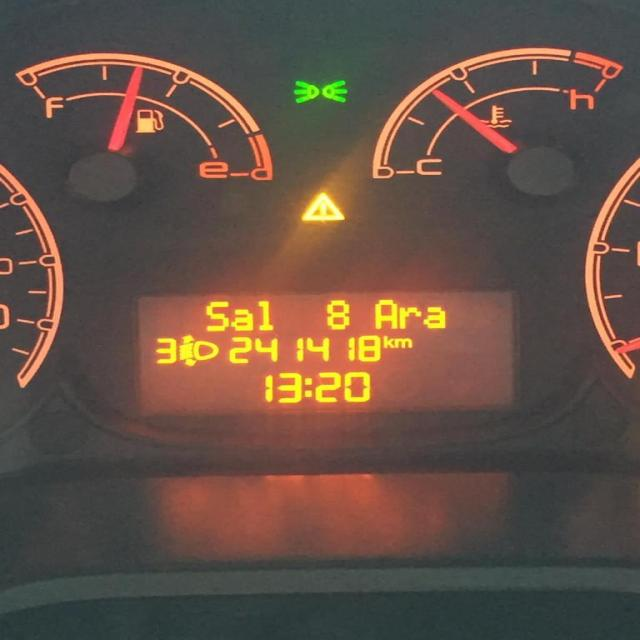odometer: (126, 283, 524, 423)
